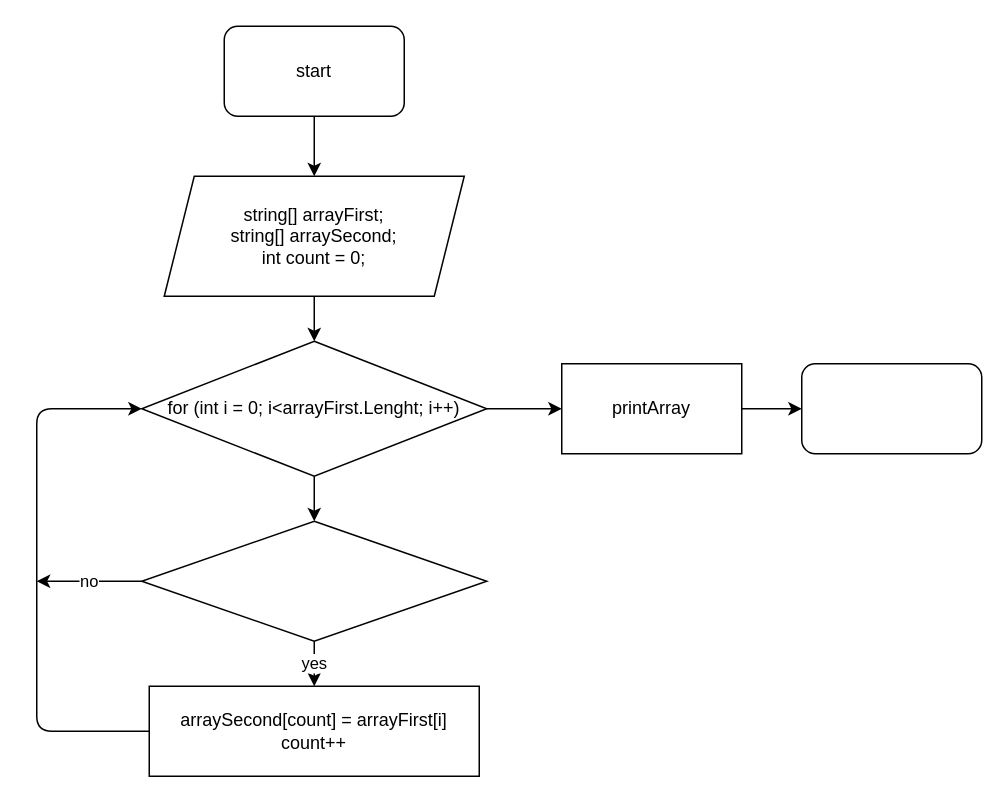
Some shapes in this 1008 by 803 pixel diagram are drawn without their labels. Here are the shapes that lost their labels. From the top down, the centre of each, then its label:
point 891,408: finish
point 313,580: if (arrayFirst[i].Lenght <=3)
